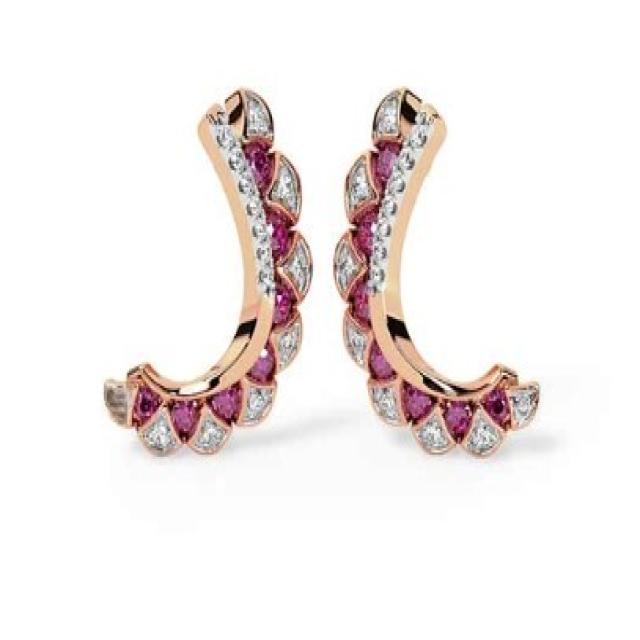missing gem: (102, 379, 141, 430)
